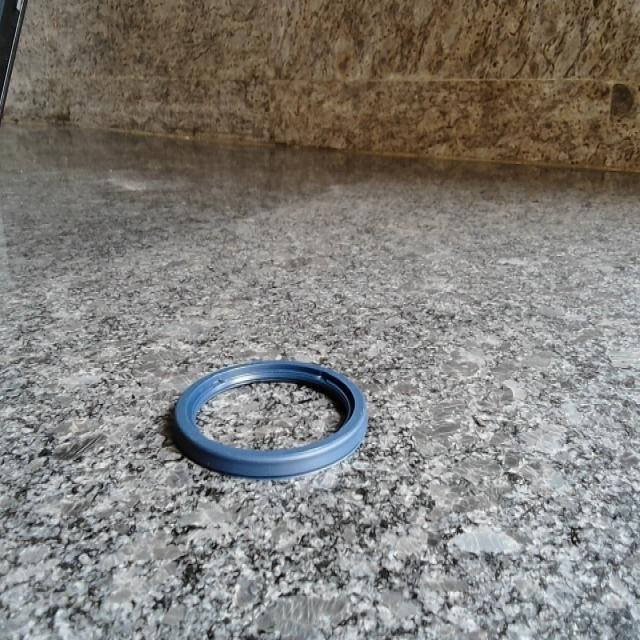cobalt-blue-ring: (175, 362, 368, 478)
